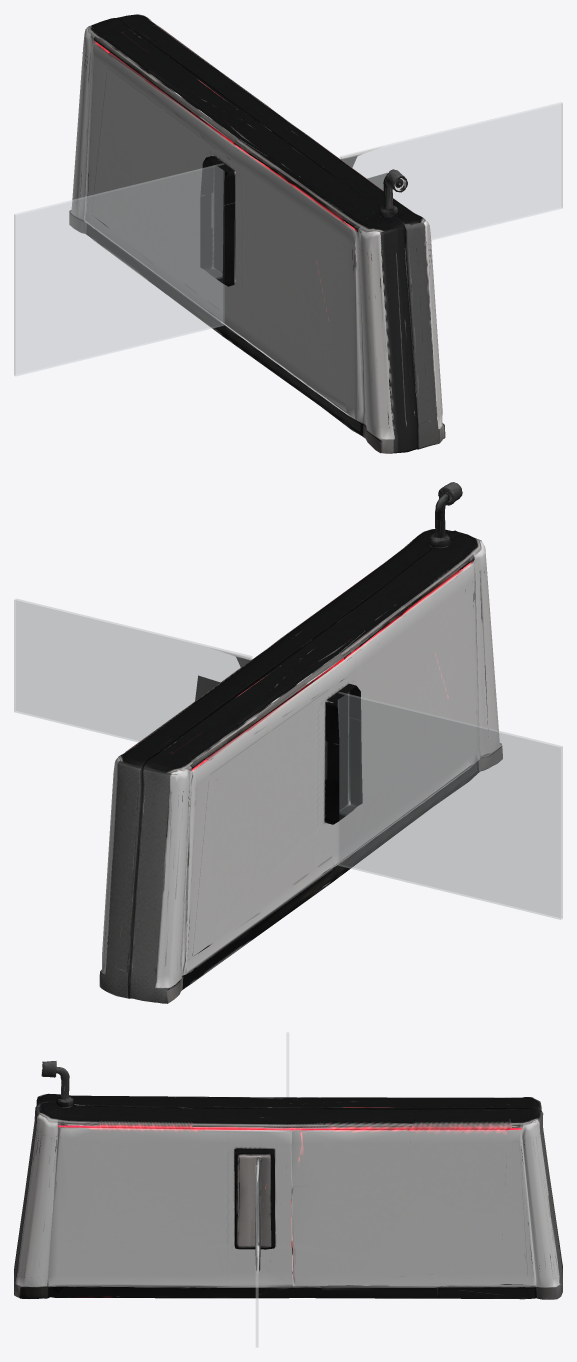
Rendered from turnstile.glb.
The picture shows the model from 3 angles, top to bottom: view 1: azimuth 30°, elevation 25°; view 2: azimuth 150°, elevation 25°; view 3: azimuth 270°, elevation 25°; orthographic projection. The views are drawn at different scales.
Parts seen in each view (by area): view 1: Mesh_0; view 2: Mesh_0; view 3: Mesh_0.
Boxes of the visible parts, bbox=[...] form: Mesh_0: bbox=[14, 14, 562, 453]; Mesh_0: bbox=[14, 482, 562, 1003]; Mesh_0: bbox=[14, 1032, 562, 1347].
Bounding box in the file's own units: 2.1 × 1 × 2.2.
2 materials, 1 textured.
